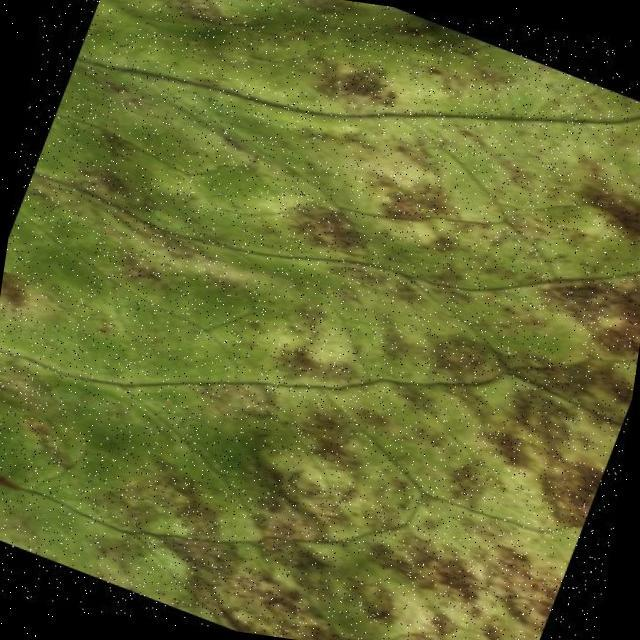Septoria_Blight: (65, 0, 640, 640)
